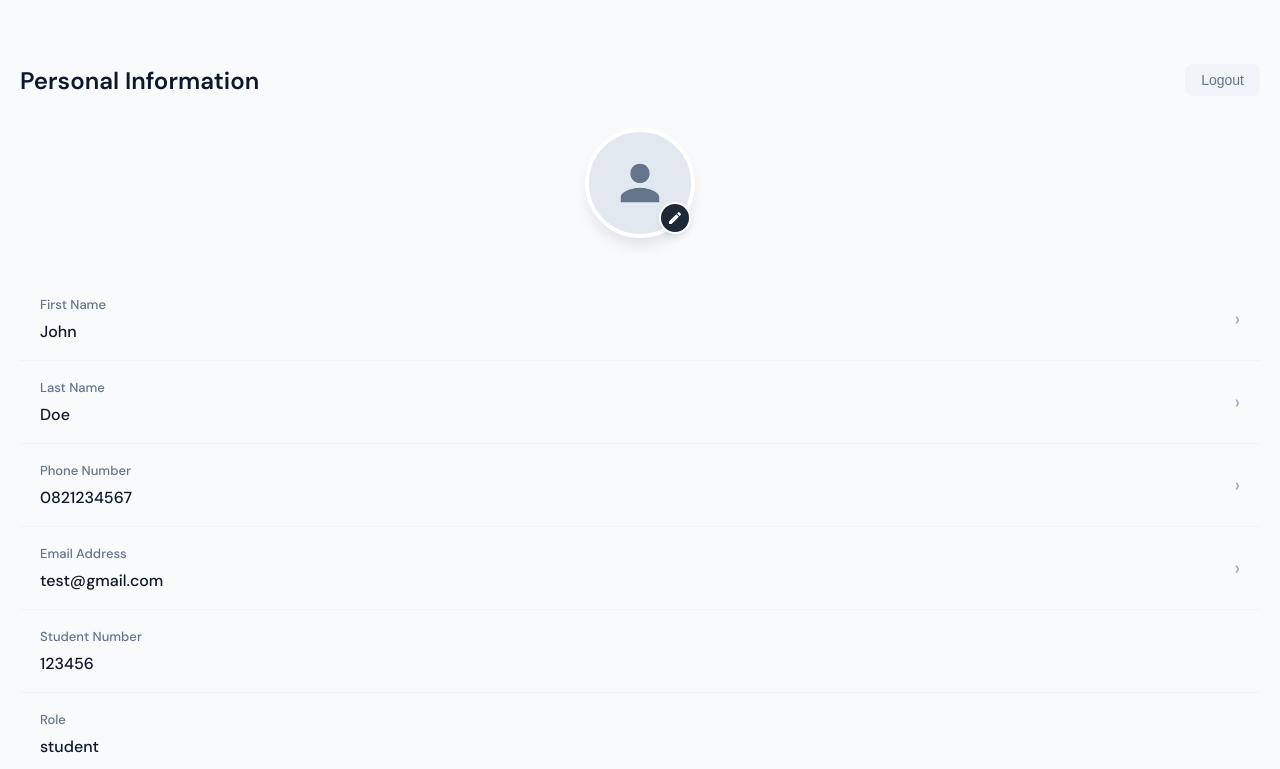
Scenario: Profile Component › Edit mode › clicking a row opens edit form
Click the text "John" at [58, 332], box x1=40 y1=321 x2=77 y2=342
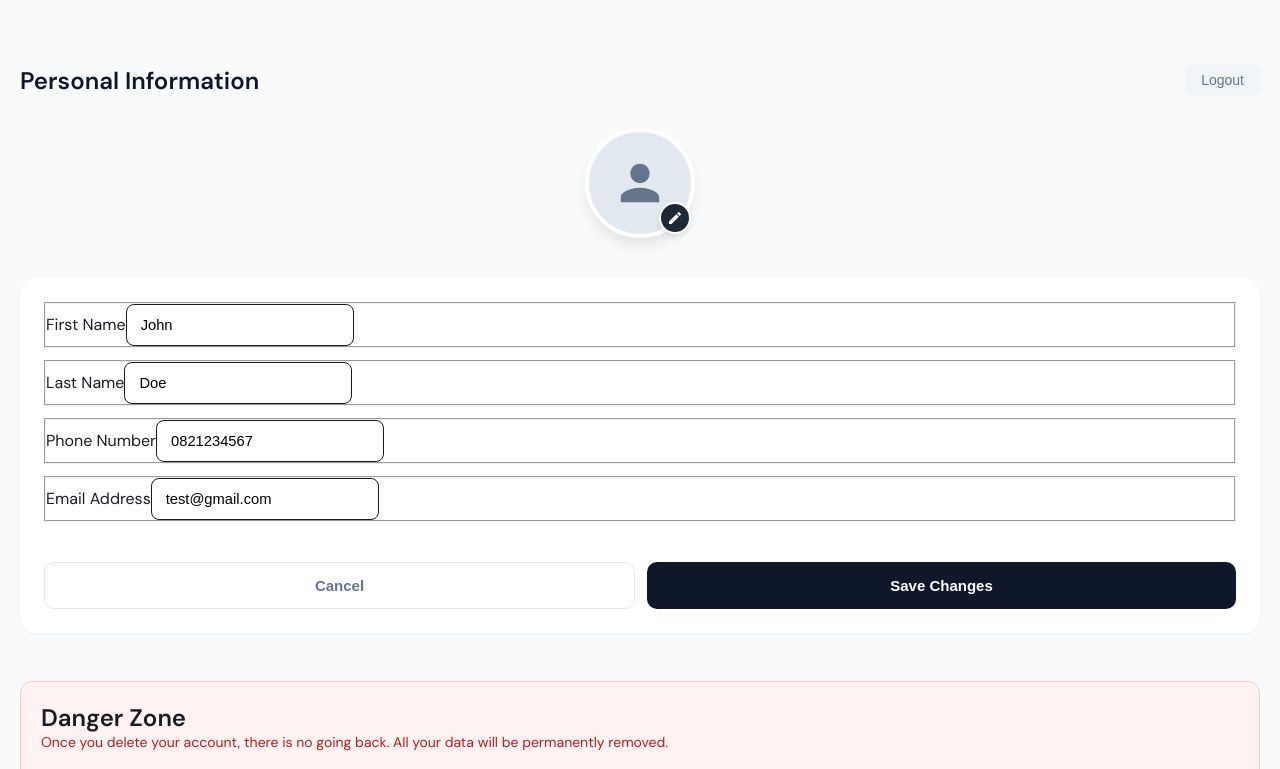
Now the field labelled "First Name" is shown, box x1=126 y1=304 x2=354 y2=346
